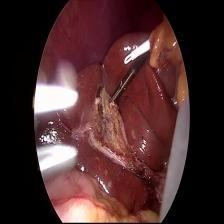Grasper: (22, 78, 82, 178), (108, 68, 136, 114)
